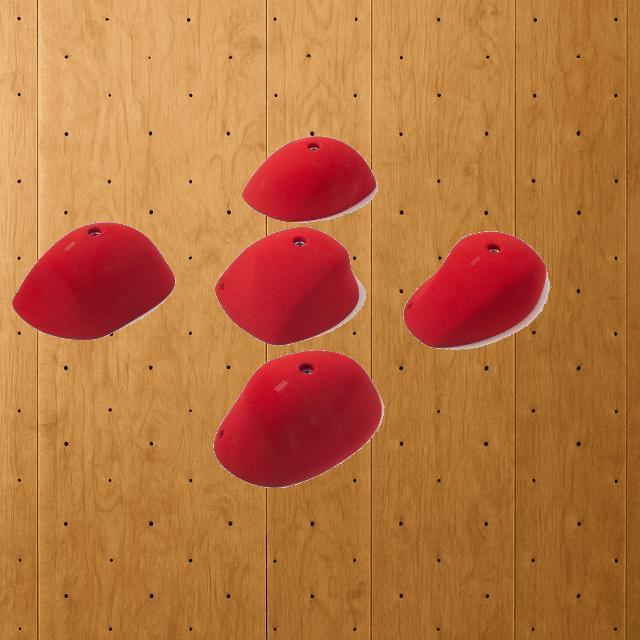Sloper: (212, 348, 384, 488), (11, 221, 175, 341), (402, 230, 548, 352), (215, 228, 362, 344), (243, 136, 377, 222)
